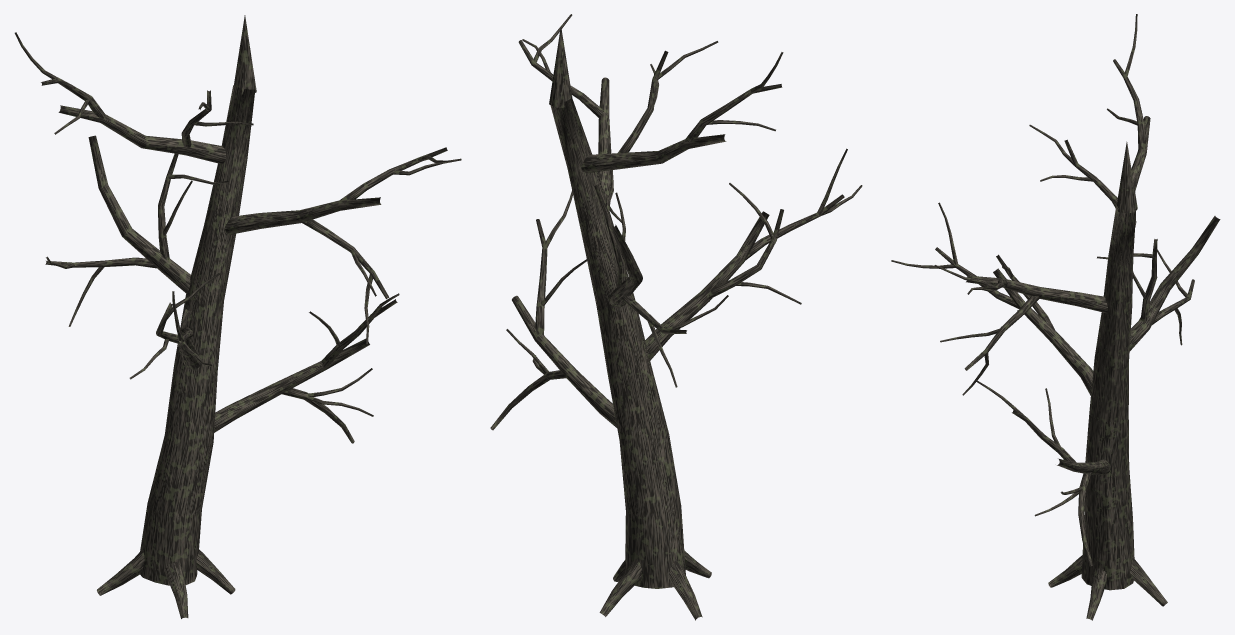
File: dead_tree.glb
3 views of the same model, side by side, from view 1: azimuth 30°, elevation 25°; view 2: azimuth 150°, elevation 25°; view 3: azimuth 270°, elevation 25° (orthographic). The views are drawn at different scales.
Parts seen in each view (by area): view 1: DeadTree; view 2: DeadTree; view 3: DeadTree.
Boxes of the visible parts, x1=… form: DeadTree: x1=14, y1=15, x2=461, y2=618; DeadTree: x1=490, y1=14, x2=862, y2=620; DeadTree: x1=891, y1=14, x2=1220, y2=620.
Size of the model in its own units: 4.32 by 6.9 by 3.93.
1 material, 1 textured.
